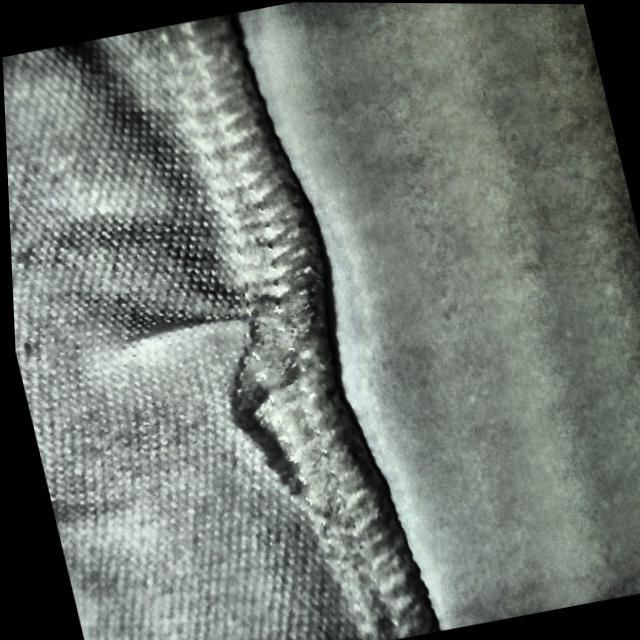seam: (111, 242, 359, 485)
